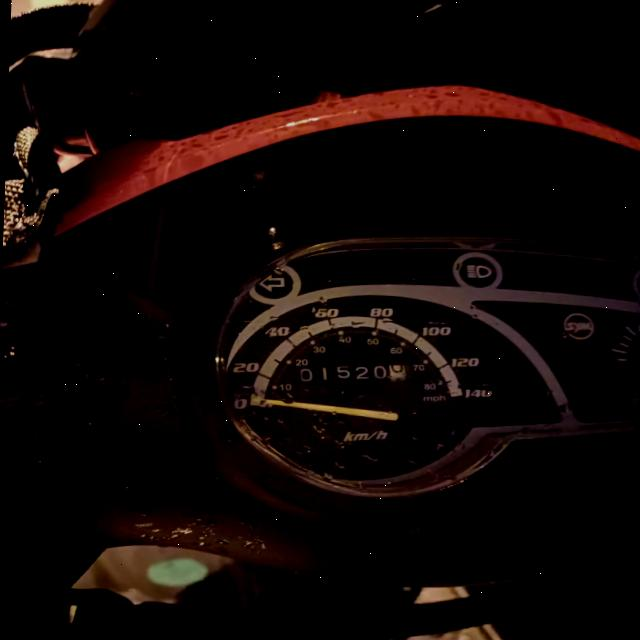odometer: (294, 358, 412, 387)
